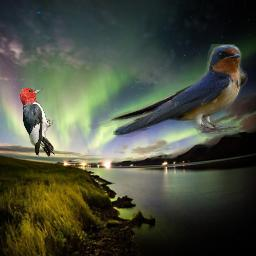Swallow: (87, 44, 248, 137)
Woodpecker: (20, 87, 55, 157)
